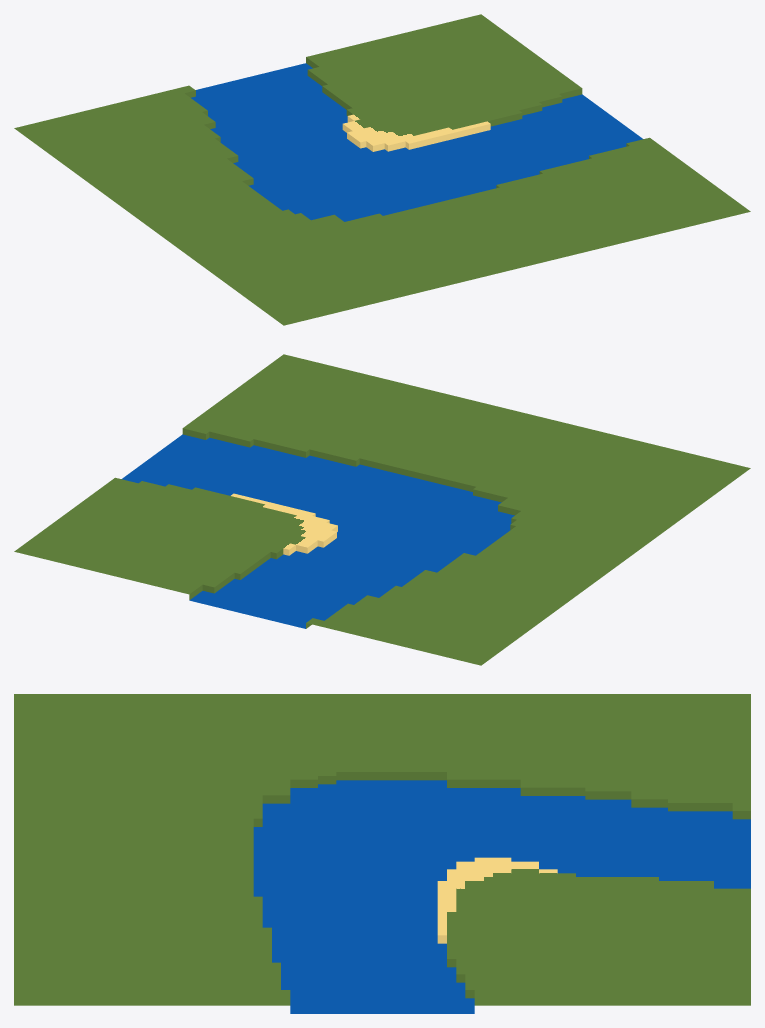
The model's file is LLLLR96(1).glb.
3 renders of one model, top to bottom at view 1: azimuth 30°, elevation 25°; view 2: azimuth 150°, elevation 25°; view 3: azimuth 270°, elevation 25°, orthographic. The views are drawn at different scales.
Visible parts, largest first — view 1: model_0.036; view 2: model_0.036; view 3: model_0.036.
Boxes of the visible parts, x1,y1,x2,y2 form: model_0.036: (14,14,750,325); model_0.036: (14,354,750,665); model_0.036: (14,694,750,1013).
Bounding box in the file's own units: 80 × 1 × 80.
Materials: 1 (1 with a texture image).
